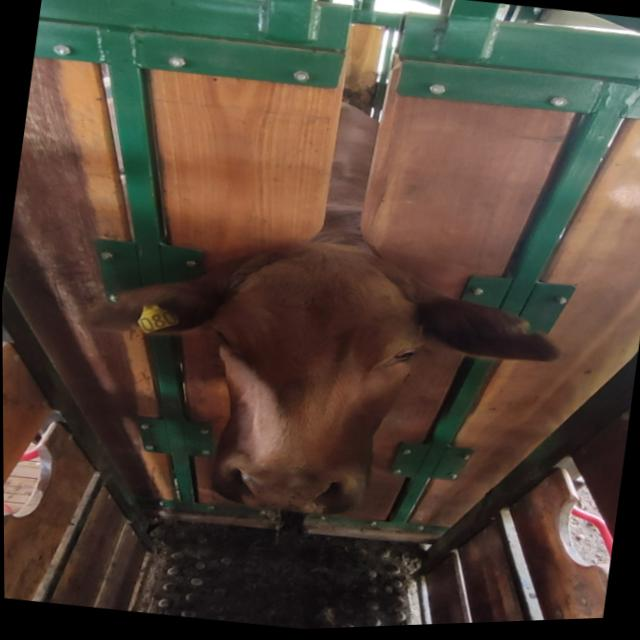cowFace: (179, 232, 434, 535)
